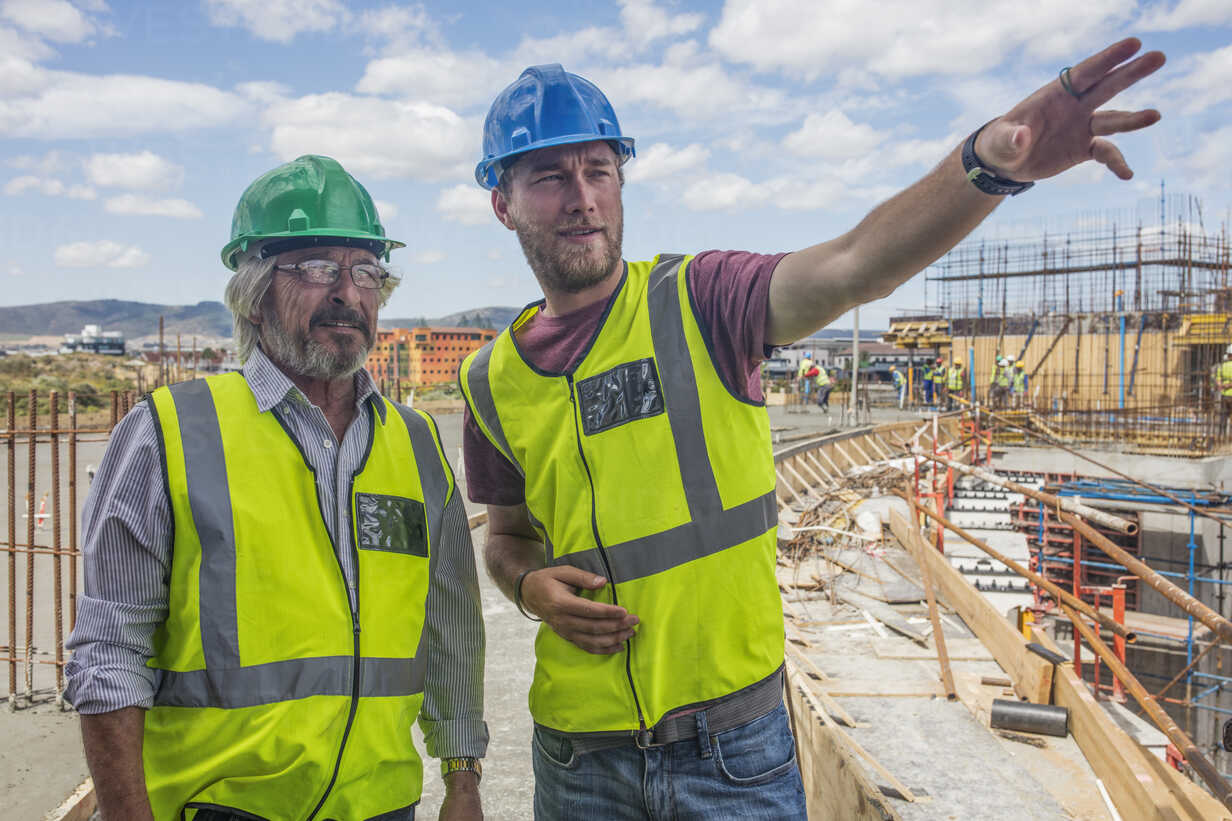With Helmet: (220, 149, 408, 386), (471, 60, 636, 281)
